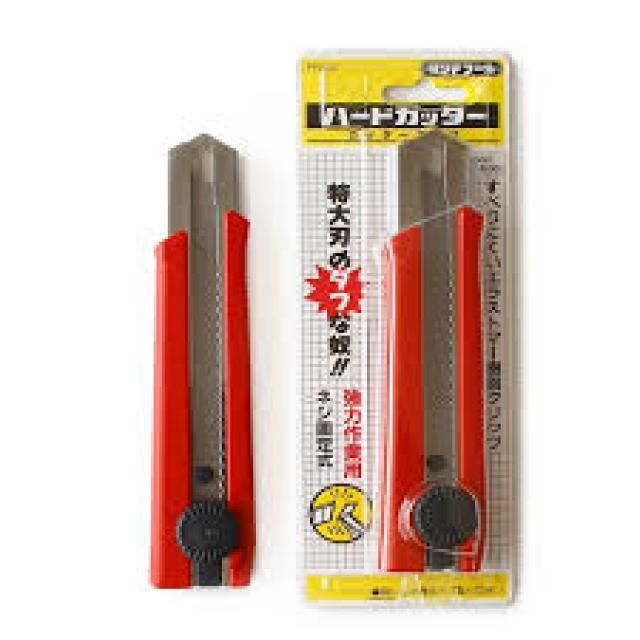cutter: (146, 120, 272, 602), (380, 122, 492, 589)
